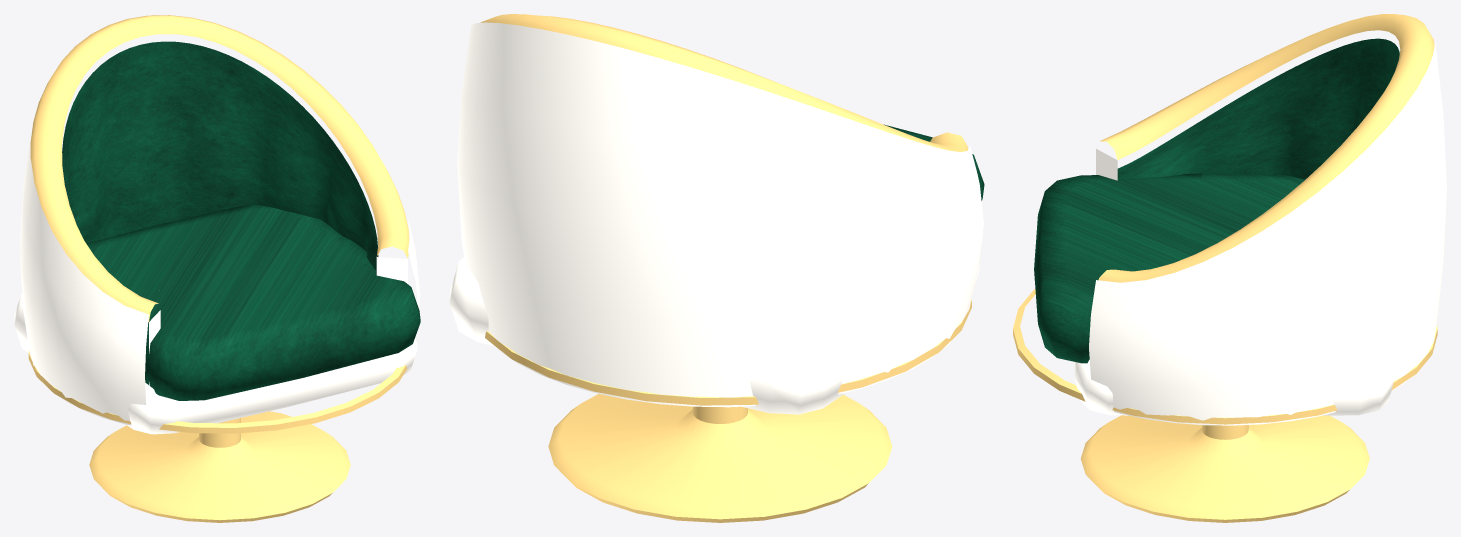
File: lb5_chair.glb
The picture shows the model from 3 angles, left to right: view 1: azimuth 30°, elevation 25°; view 2: azimuth 150°, elevation 25°; view 3: azimuth 270°, elevation 25°; orthographic projection. The views are drawn at different scales.
Visible parts, largest first — view 1: lb5_chair; view 2: lb5_chair; view 3: lb5_chair.
Part boxes in pixels (x1,y1,x2,y2): lb5_chair: (14,15,420,522); lb5_chair: (449,14,984,522); lb5_chair: (1013,14,1446,522).
Bounding box in the file's own units: 0.9494 × 1.01 × 0.93.
3 materials, 1 textured.
